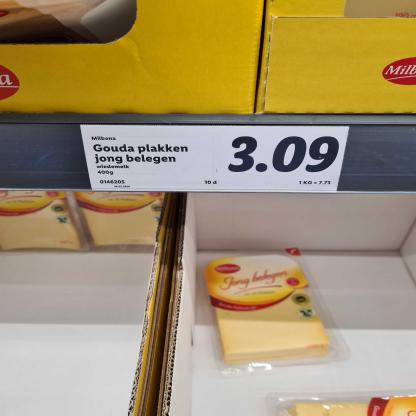prtg: (81, 126, 350, 194)
